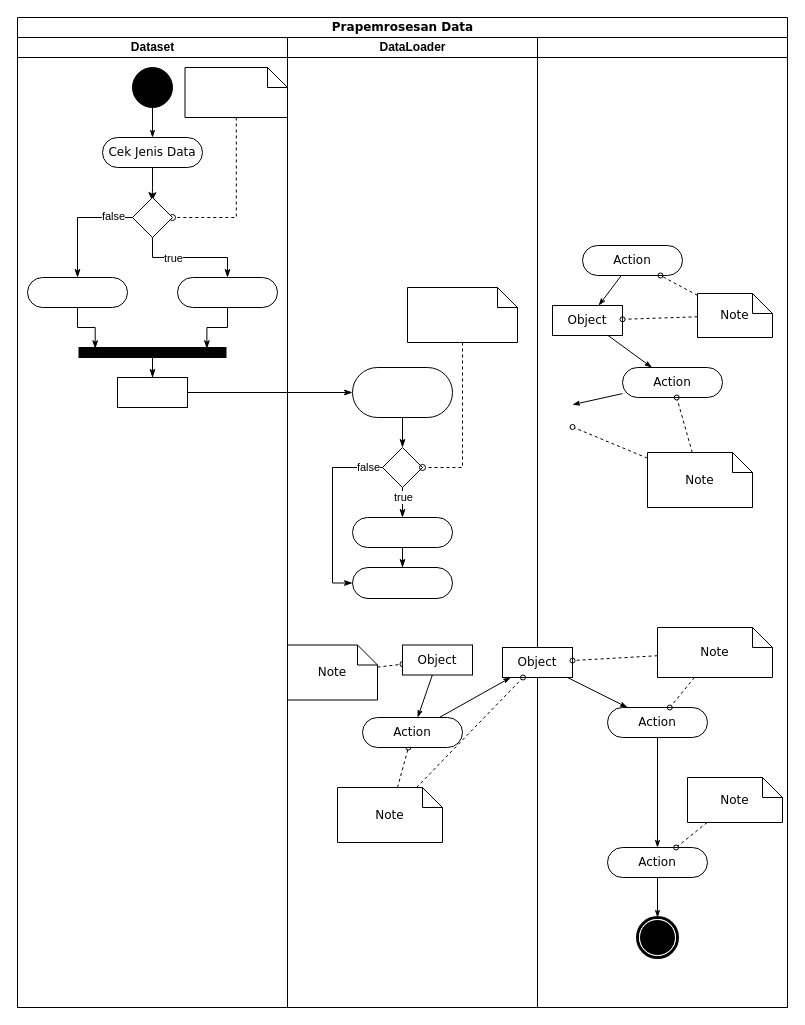
The diagram is 805 pixels wide and 1025 high, and some of its shapes have lost their labels. Here are the shapes that lost their labels. From the top down, the box of each, then its label:
(184, 66, 288, 118): is_train == true
(26, 276, 128, 308): Muat Data Validasi
(176, 276, 278, 308): Muat Data Pelatihan
(406, 286, 518, 342): shuffle == true
(116, 376, 188, 408): Objek Dataset
(352, 366, 452, 418): Cek Pengacakan Urutan
(352, 516, 452, 548): Acak Urutan Data
(536, 36, 788, 1008): Model
(352, 566, 452, 598): Pembagian Mini-Batch
